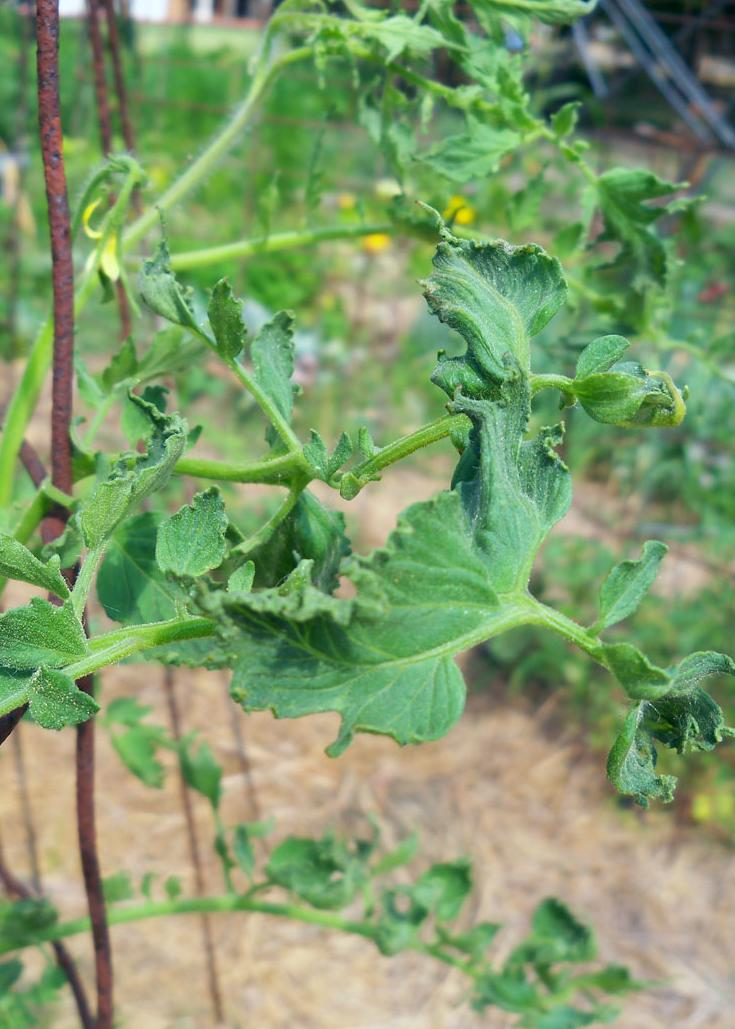Tomato leaf mosaic virus: (229, 490, 536, 742), (415, 199, 575, 612), (596, 617, 735, 828), (0, 595, 96, 743), (149, 484, 235, 579), (251, 297, 303, 430)
